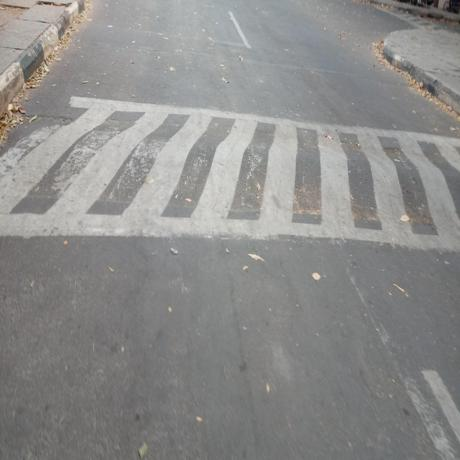Speed Bump: (1, 87, 460, 247)
